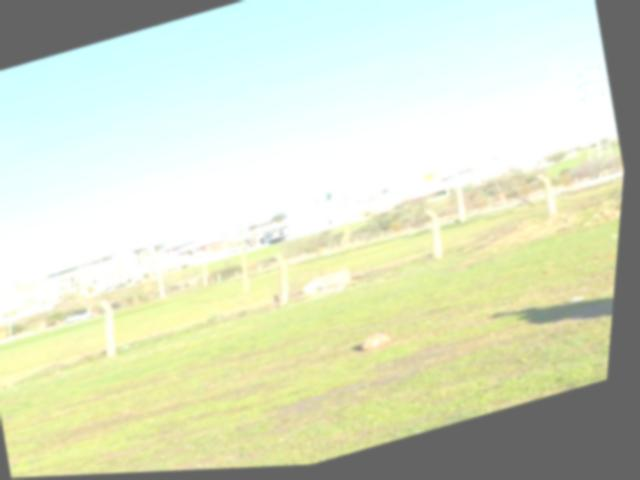iha: (388, 158, 480, 194)
